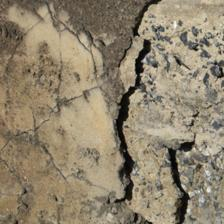Crack: (29, 4, 99, 127), (72, 0, 127, 137), (52, 55, 103, 105), (95, 65, 128, 141), (14, 91, 62, 133)
